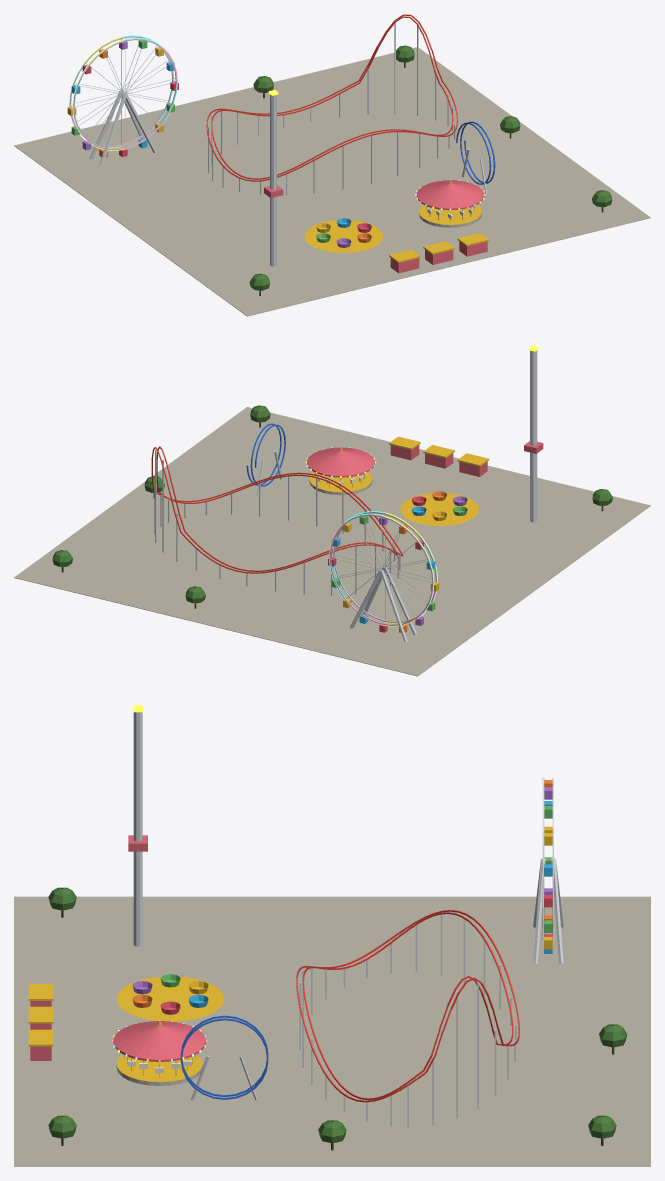
File: amusement_park.glb
3 renders of one model, top to bottom at view 1: azimuth 30°, elevation 25°; view 2: azimuth 150°, elevation 25°; view 3: azimuth 270°, elevation 25°, orthographic. The views are drawn at different scales.
Parts seen in each view (by area): view 1: Amuse_static, spin_s40_wheel, spinY_s50_carousel; view 2: Amuse_static, spin_s40_wheel, spinY_s50_carousel; view 3: Amuse_static, spinY_s50_carousel, spin_s40_wheel.
Boxes of the visible parts, x1,y1,x2,y2 form: Amuse_static: (14, 14, 650, 316); spin_s40_wheel: (67, 35, 178, 157); spinY_s50_carousel: (415, 179, 485, 227); Amuse_static: (14, 345, 650, 676); spin_s40_wheel: (328, 511, 439, 632); spinY_s50_carousel: (305, 447, 376, 495); Amuse_static: (14, 705, 650, 1166); spinY_s50_carousel: (112, 1020, 207, 1085); spin_s40_wheel: (542, 776, 553, 953).
Size of the model in its own units: 118 by 48.81 by 118.
